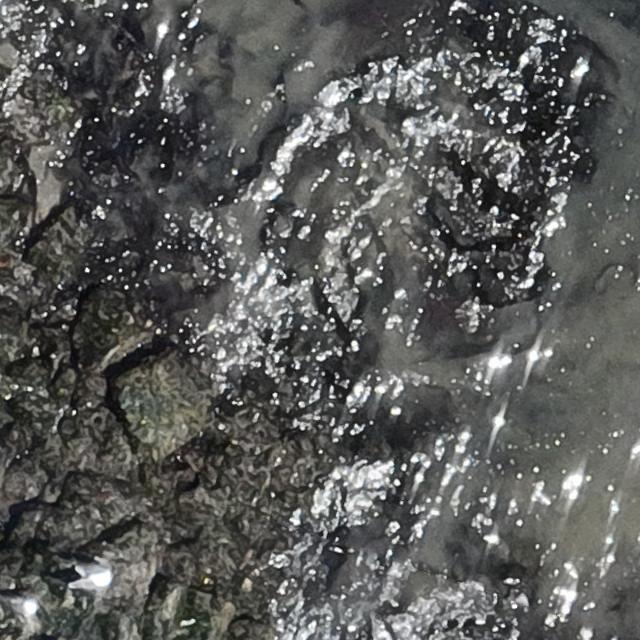F: (61, 564, 111, 591)
umineko: (3, 594, 37, 613)
